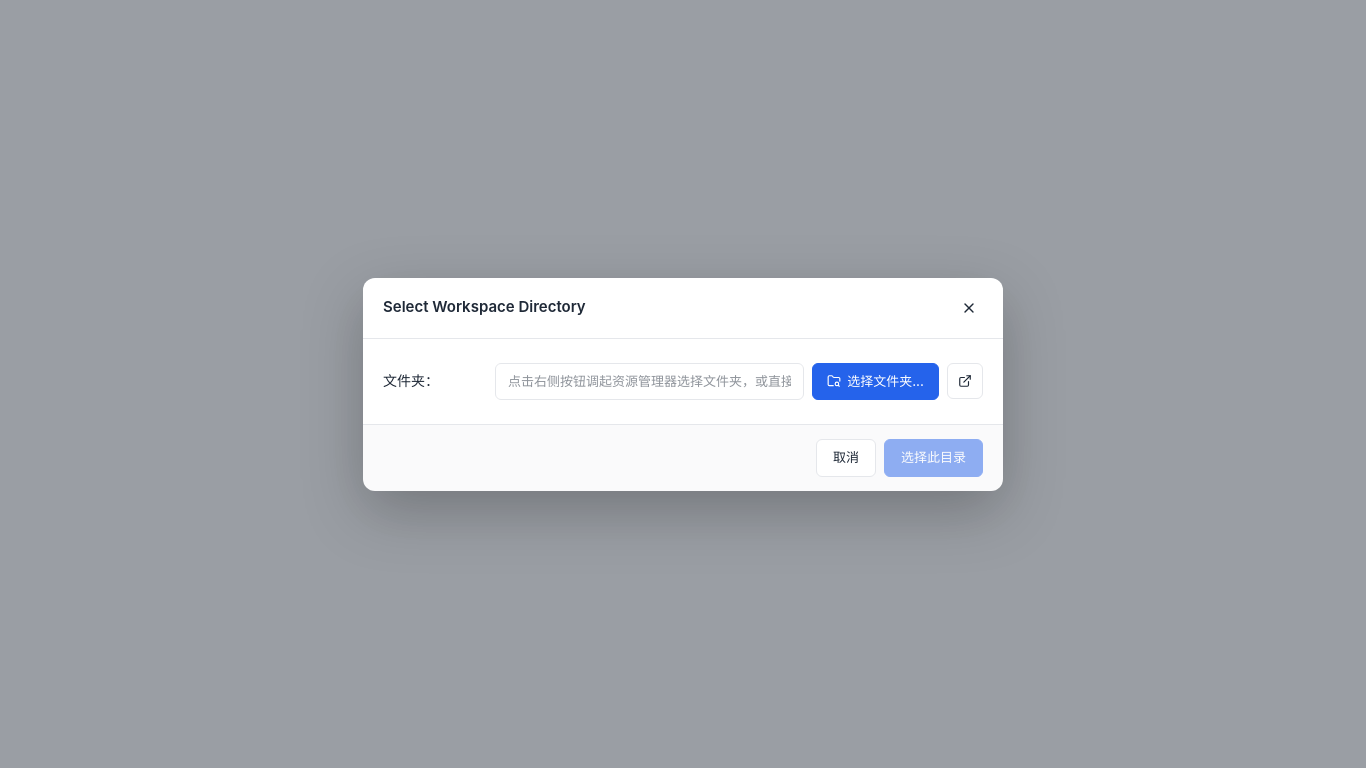
Test: WorkspacePickerModal (v2 single-action) › submit disabled when path empty
The image size is (1366, 768).
Expected: the button with test id "wp-submit" is disabled, x1=884 y1=439 x2=983 y2=476
Type "C:\\x\\y" into the field with test id "wp-path-input" at x=650, y=381, box x1=495 y1=362 x2=804 y2=400
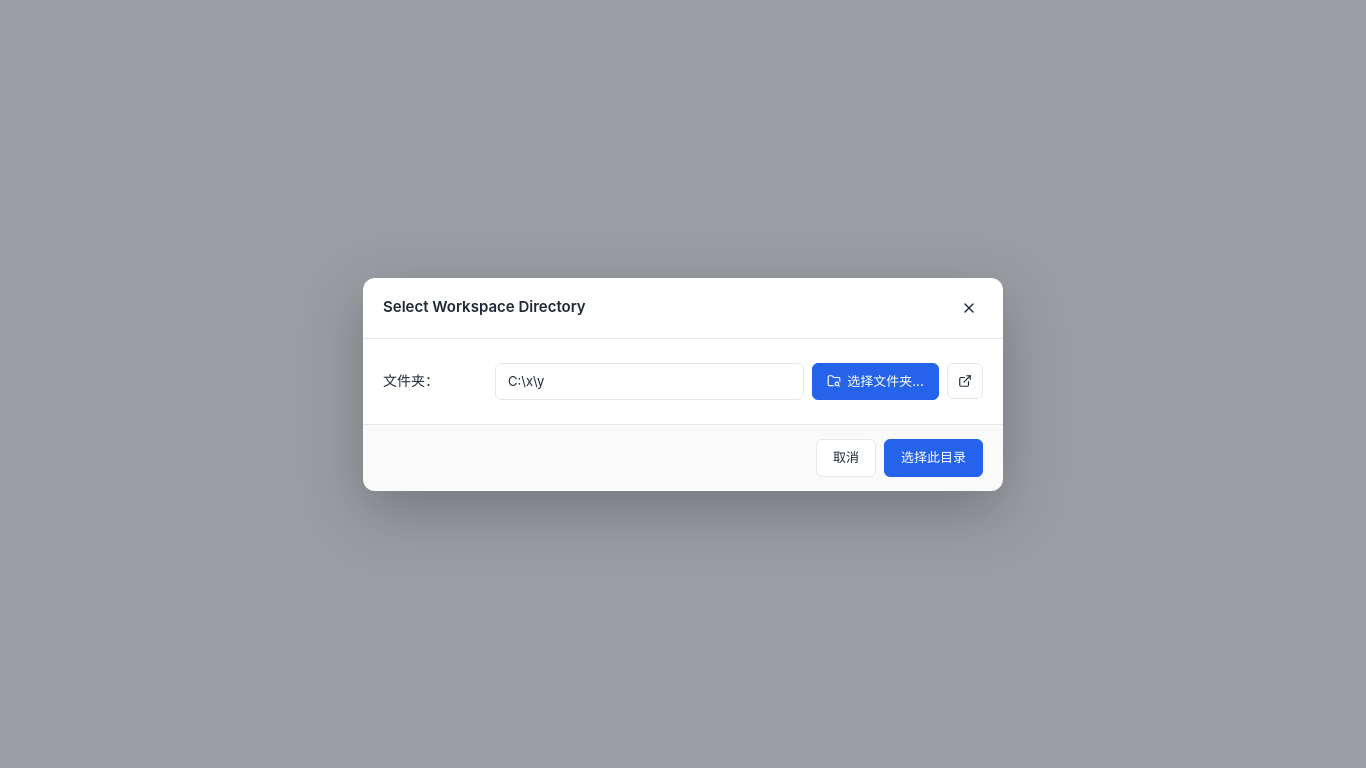
Now the button with test id "wp-submit" is enabled, box x1=884 y1=439 x2=983 y2=476
